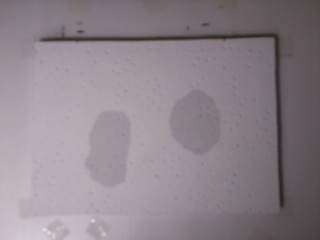Water_detected: (98, 117, 134, 179), (177, 101, 216, 142)
